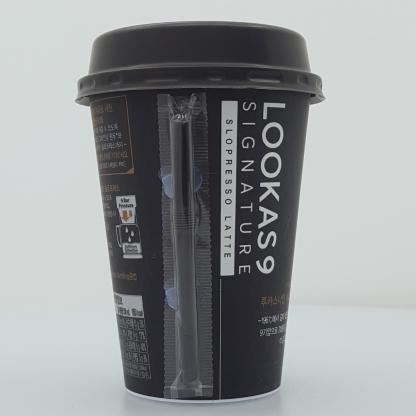----------------: (74, 19, 326, 402)
